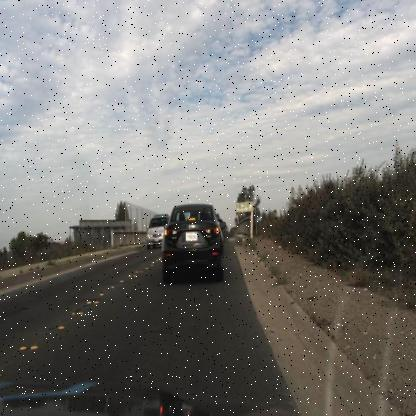car: (156, 197, 235, 289), (138, 207, 172, 254)
